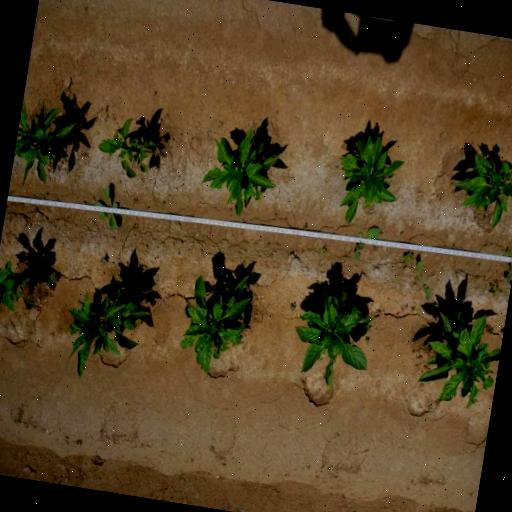plant: (54, 268, 154, 388), (170, 260, 260, 382), (193, 118, 287, 224), (292, 280, 373, 393), (415, 302, 501, 407), (328, 128, 409, 230), (8, 88, 82, 194), (442, 140, 512, 234), (90, 110, 168, 184), (0, 255, 41, 315)
weed: (88, 182, 124, 232), (407, 258, 436, 302), (350, 222, 380, 264), (486, 282, 502, 297), (46, 270, 58, 285), (311, 276, 323, 291), (503, 267, 512, 283), (401, 250, 414, 261), (484, 322, 494, 334), (98, 254, 106, 264), (503, 246, 512, 254), (288, 302, 294, 312), (320, 245, 326, 254), (364, 336, 370, 344), (430, 302, 438, 308)
